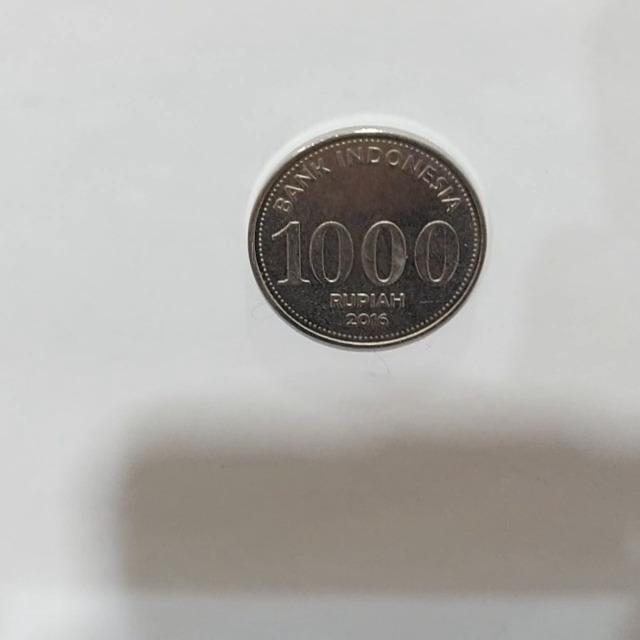Rp100: (246, 120, 487, 351)
